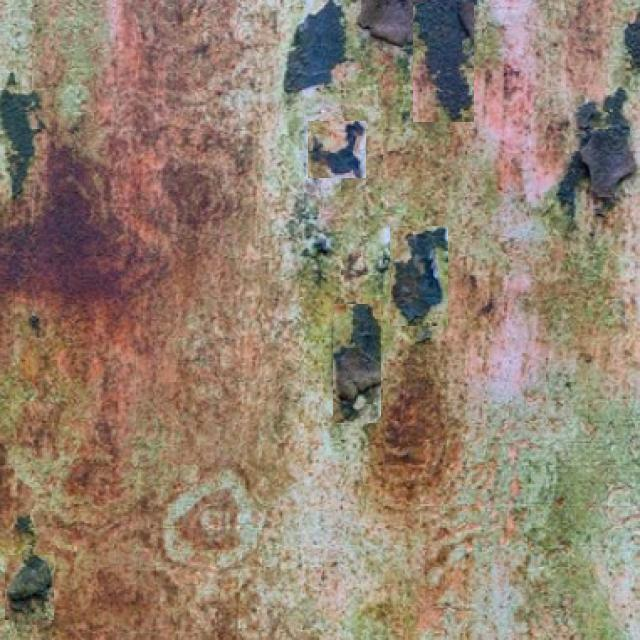Corrosion: (111, 0, 260, 239), (45, 410, 189, 640), (0, 147, 173, 336), (475, 0, 616, 202), (127, 250, 236, 411), (374, 343, 449, 504)
